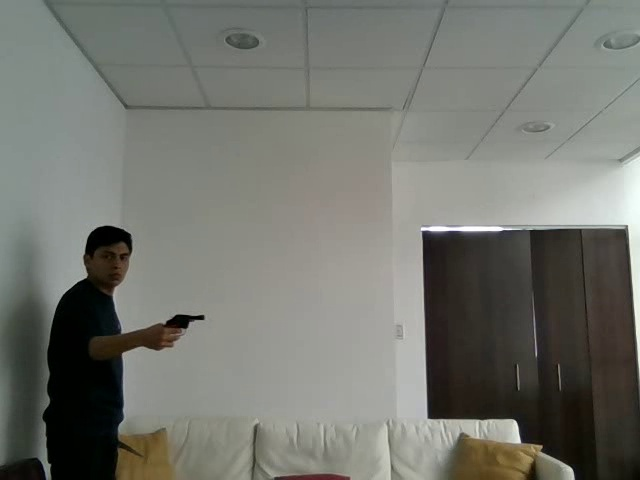pistola: (160, 307, 212, 339)
